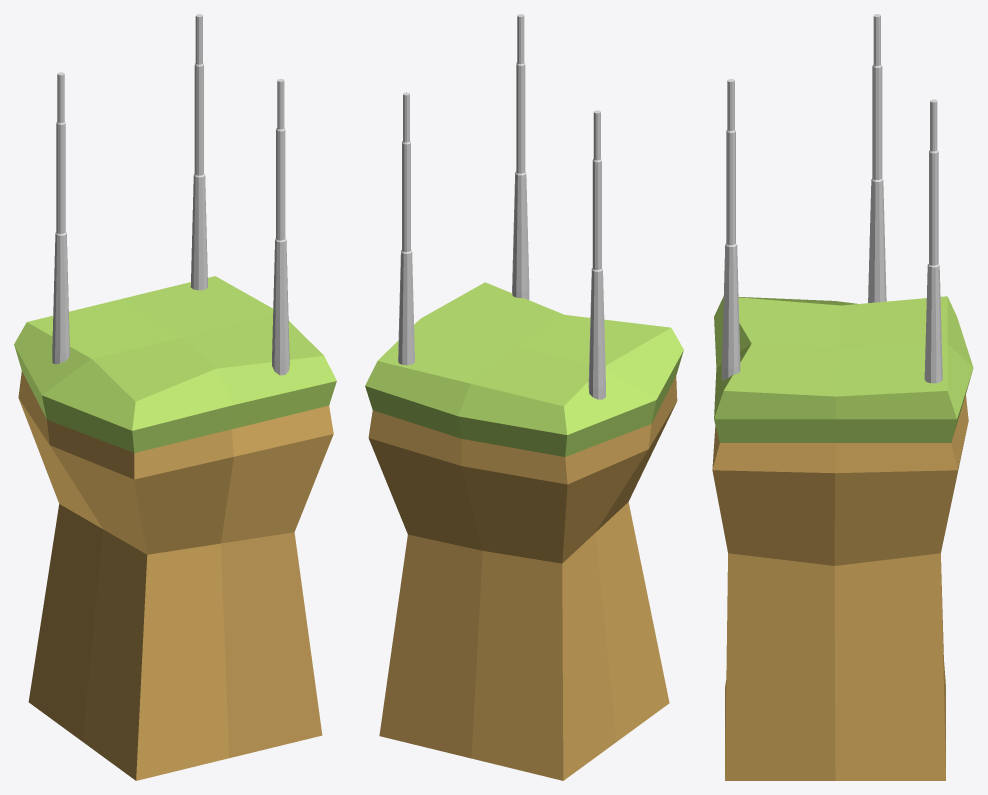
Rendered from Side_Terrain_4.fbx.
3 views of the same model, side by side, from view 1: azimuth 30°, elevation 25°; view 2: azimuth 150°, elevation 25°; view 3: azimuth 270°, elevation 25° (orthographic). The views are drawn at different scales.
Visible parts, largest first — view 1: Side_Terrain_4; view 2: Side_Terrain_4; view 3: Side_Terrain_4.
Boxes of the visible parts, x1,y1,x2,y2 form: Side_Terrain_4: (14, 14, 336, 780); Side_Terrain_4: (365, 14, 683, 780); Side_Terrain_4: (712, 14, 973, 780).
Size of the model in its own units: 358 by 947 by 329.
